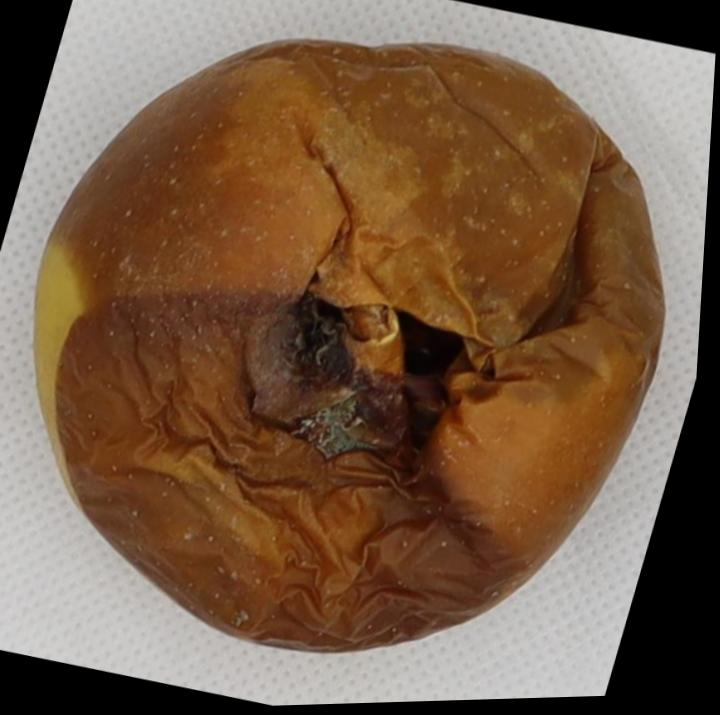apple: (34, 38, 664, 650)
rot_mold_decay: (53, 40, 664, 650)
